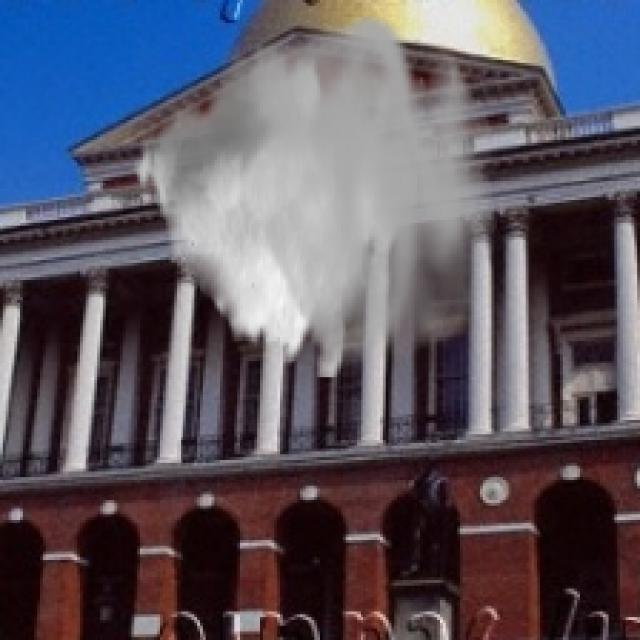Smoke: (132, 9, 497, 378)
